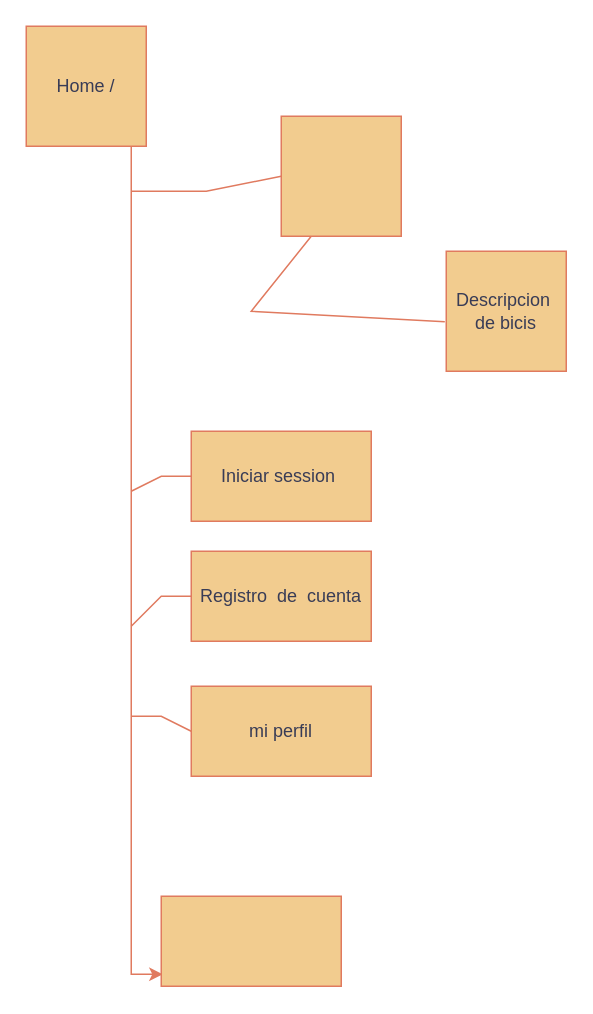
The diagram is 593 pixels wide and 1014 high, and some of its shapes have lost their labels. The centre of each missing label's shape, as x and y in pixels:
confirmacion de compra: point (250, 940)
Listado bicis: point (340, 175)
